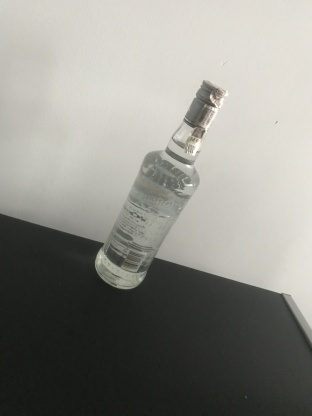nakretka: (182, 77, 228, 134)
